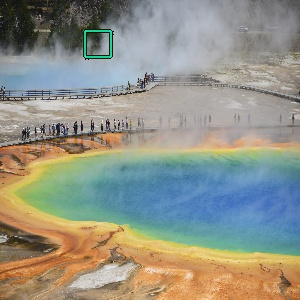square: (82, 29, 114, 59)
